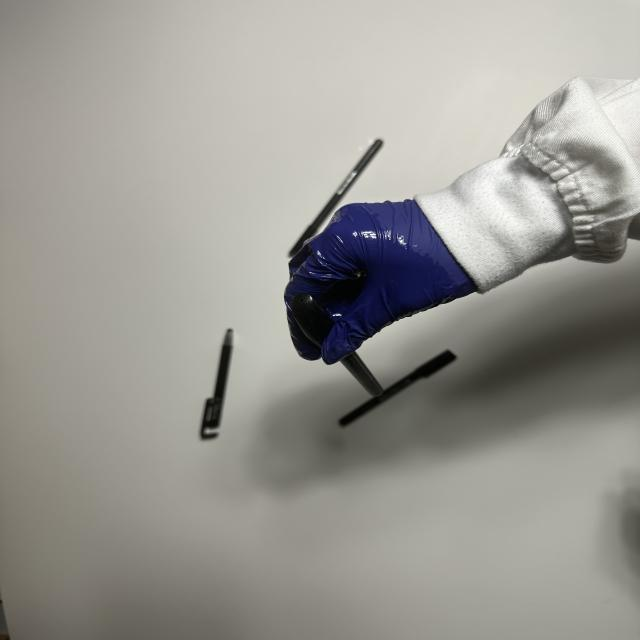gloves_contaminated: (285, 200, 476, 363)
